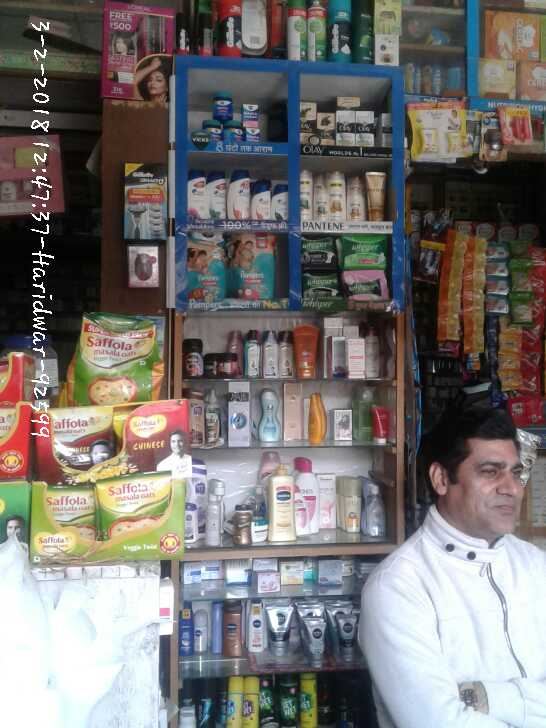vicks: (203, 89, 273, 151)
